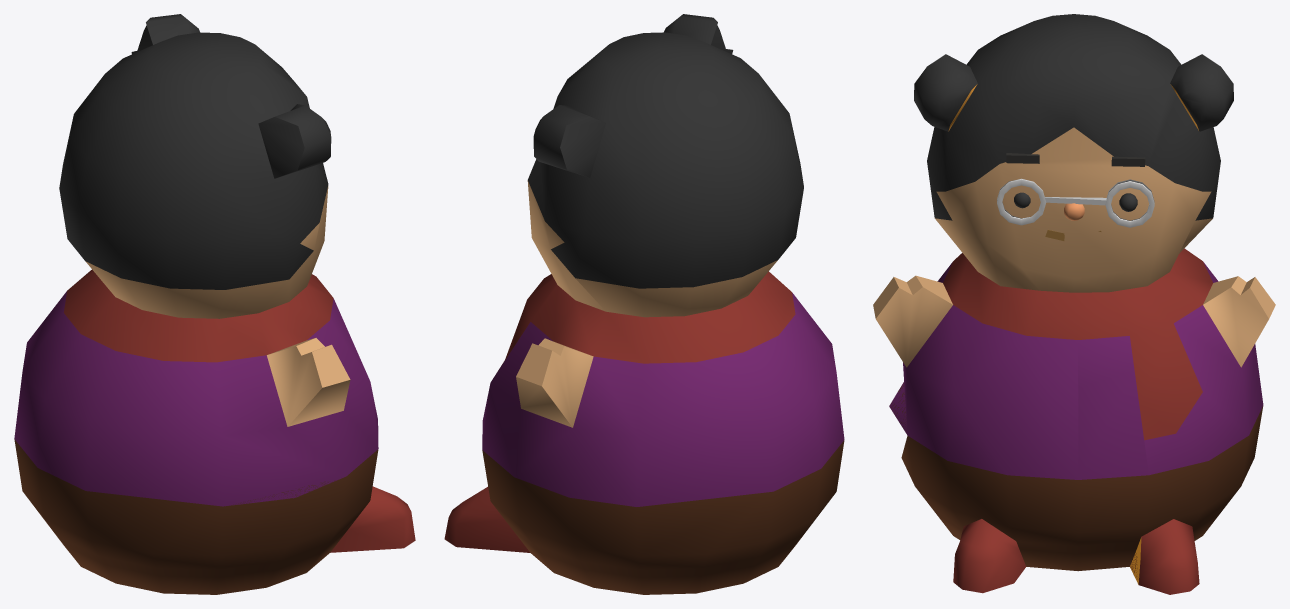
Rendered from grandmaSmooth1.fbx.
3 views of the same model, side by side, from view 1: azimuth 30°, elevation 25°; view 2: azimuth 150°, elevation 25°; view 3: azimuth 270°, elevation 25° (orthographic).
Parts seen in each view (by area): view 1: Monkey; view 2: Monkey; view 3: Monkey, Cylinder.001, Cylinder.
Part boxes in pixels (x1,y1,x2,y2): Monkey: (14,14,415,594); Monkey: (444,14,844,594); Monkey: (873,14,1275,594); Cylinder.001: (1105,179,1154,227); Cylinder: (997,178,1046,225).
Size of the model in its own units: 256 by 365 by 274.
